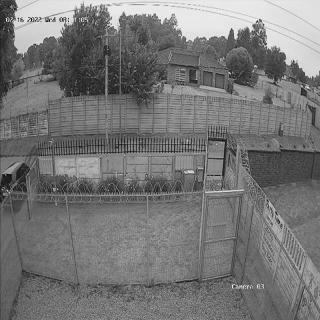car: (1, 160, 30, 211)
